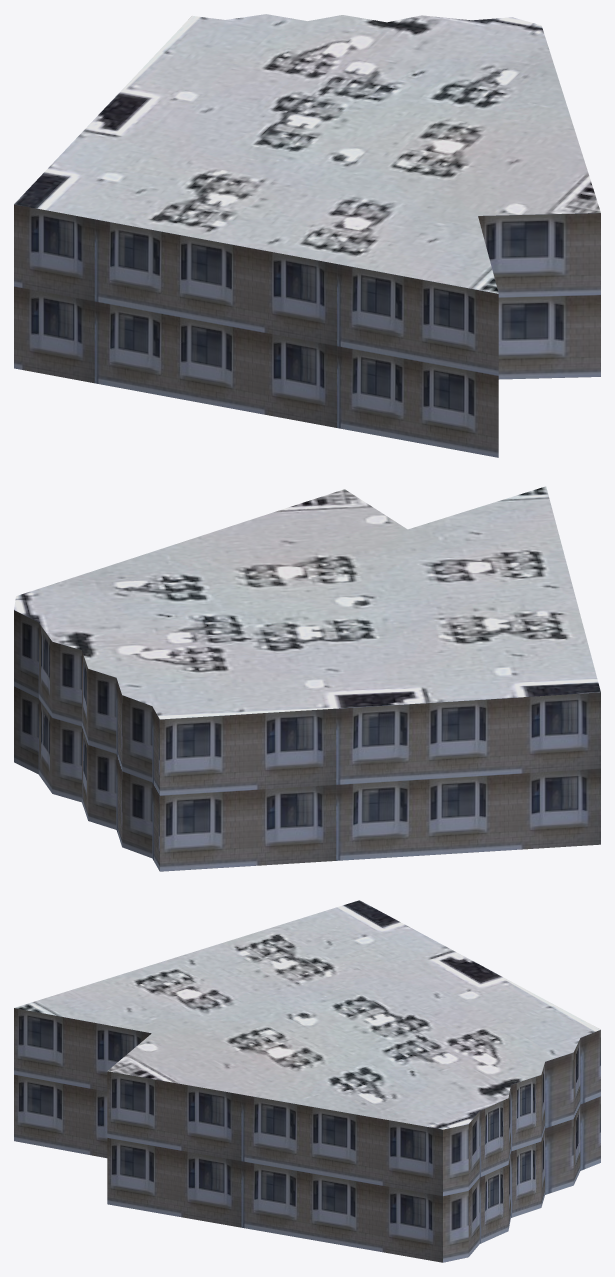
File: ResTex__2390.fbx
The picture shows the model from 3 angles, top to bottom: view 1: azimuth 30°, elevation 25°; view 2: azimuth 150°, elevation 25°; view 3: azimuth 270°, elevation 25°; orthographic projection. The views are drawn at different scales.
Visible parts, largest first — view 1: CityEngineMaterial_8_m, CityEngineMaterial_3_m; view 2: CityEngineMaterial_8_m, CityEngineMaterial_3_m; view 3: CityEngineMaterial_3_m, CityEngineMaterial_8_m.
Boxes of the visible parts, box(x1,y1,x2,y2) form: CityEngineMaterial_8_m: box(14, 14, 600, 293); CityEngineMaterial_3_m: box(14, 204, 600, 457); CityEngineMaterial_8_m: box(14, 486, 600, 719); CityEngineMaterial_3_m: box(14, 610, 600, 871); CityEngineMaterial_3_m: box(14, 1008, 600, 1262); CityEngineMaterial_8_m: box(14, 900, 600, 1129).
Bounding box in the file's own units: 22.16 × 6 × 23.97.
2 materials, 2 textured.
